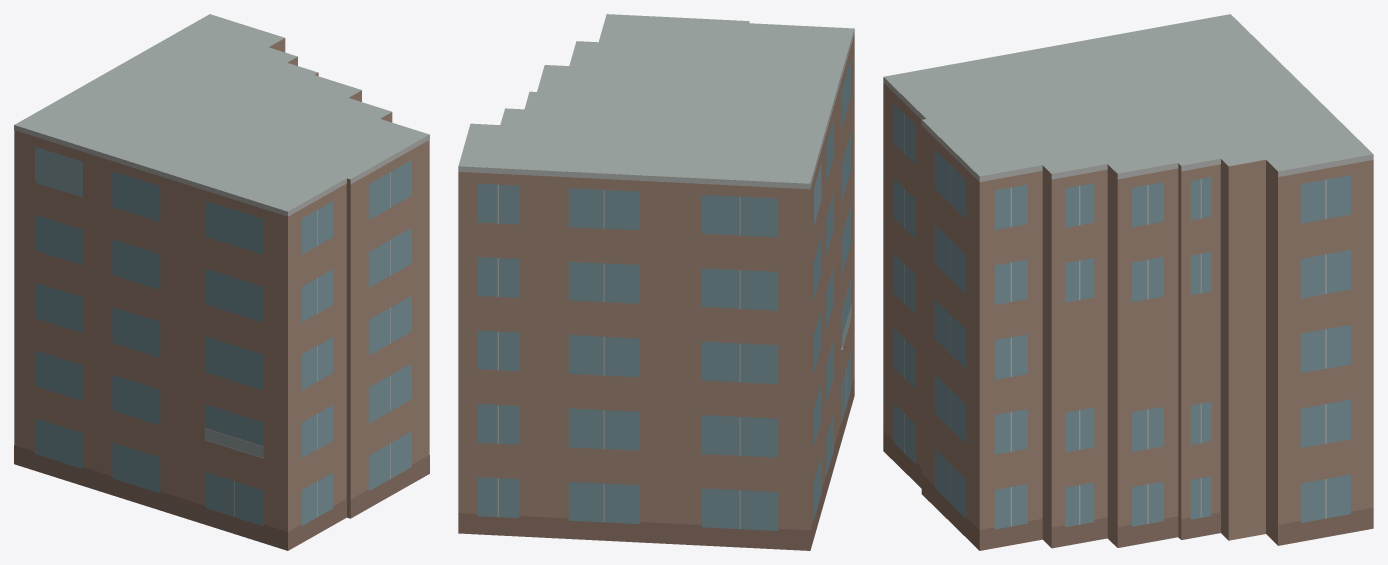
The model's file is survey-upis-32736620.glb.
The picture shows the model from 3 angles, left to right: view 1: azimuth 30°, elevation 25°; view 2: azimuth 150°, elevation 25°; view 3: azimuth 270°, elevation 25°; orthographic projection. The views are drawn at different scales.
Parts seen in each view (by area): view 1: survey-upis-32736620.tmp; view 2: survey-upis-32736620.tmp; view 3: survey-upis-32736620.tmp.
Boxes of the visible parts, box(x1,y1,x2,y2) form: survey-upis-32736620.tmp: box(14, 14, 429, 550); survey-upis-32736620.tmp: box(458, 14, 854, 550); survey-upis-32736620.tmp: box(883, 14, 1373, 550).
Bounding box in the file's own units: 15.24 × 16.35 × 19.42.
